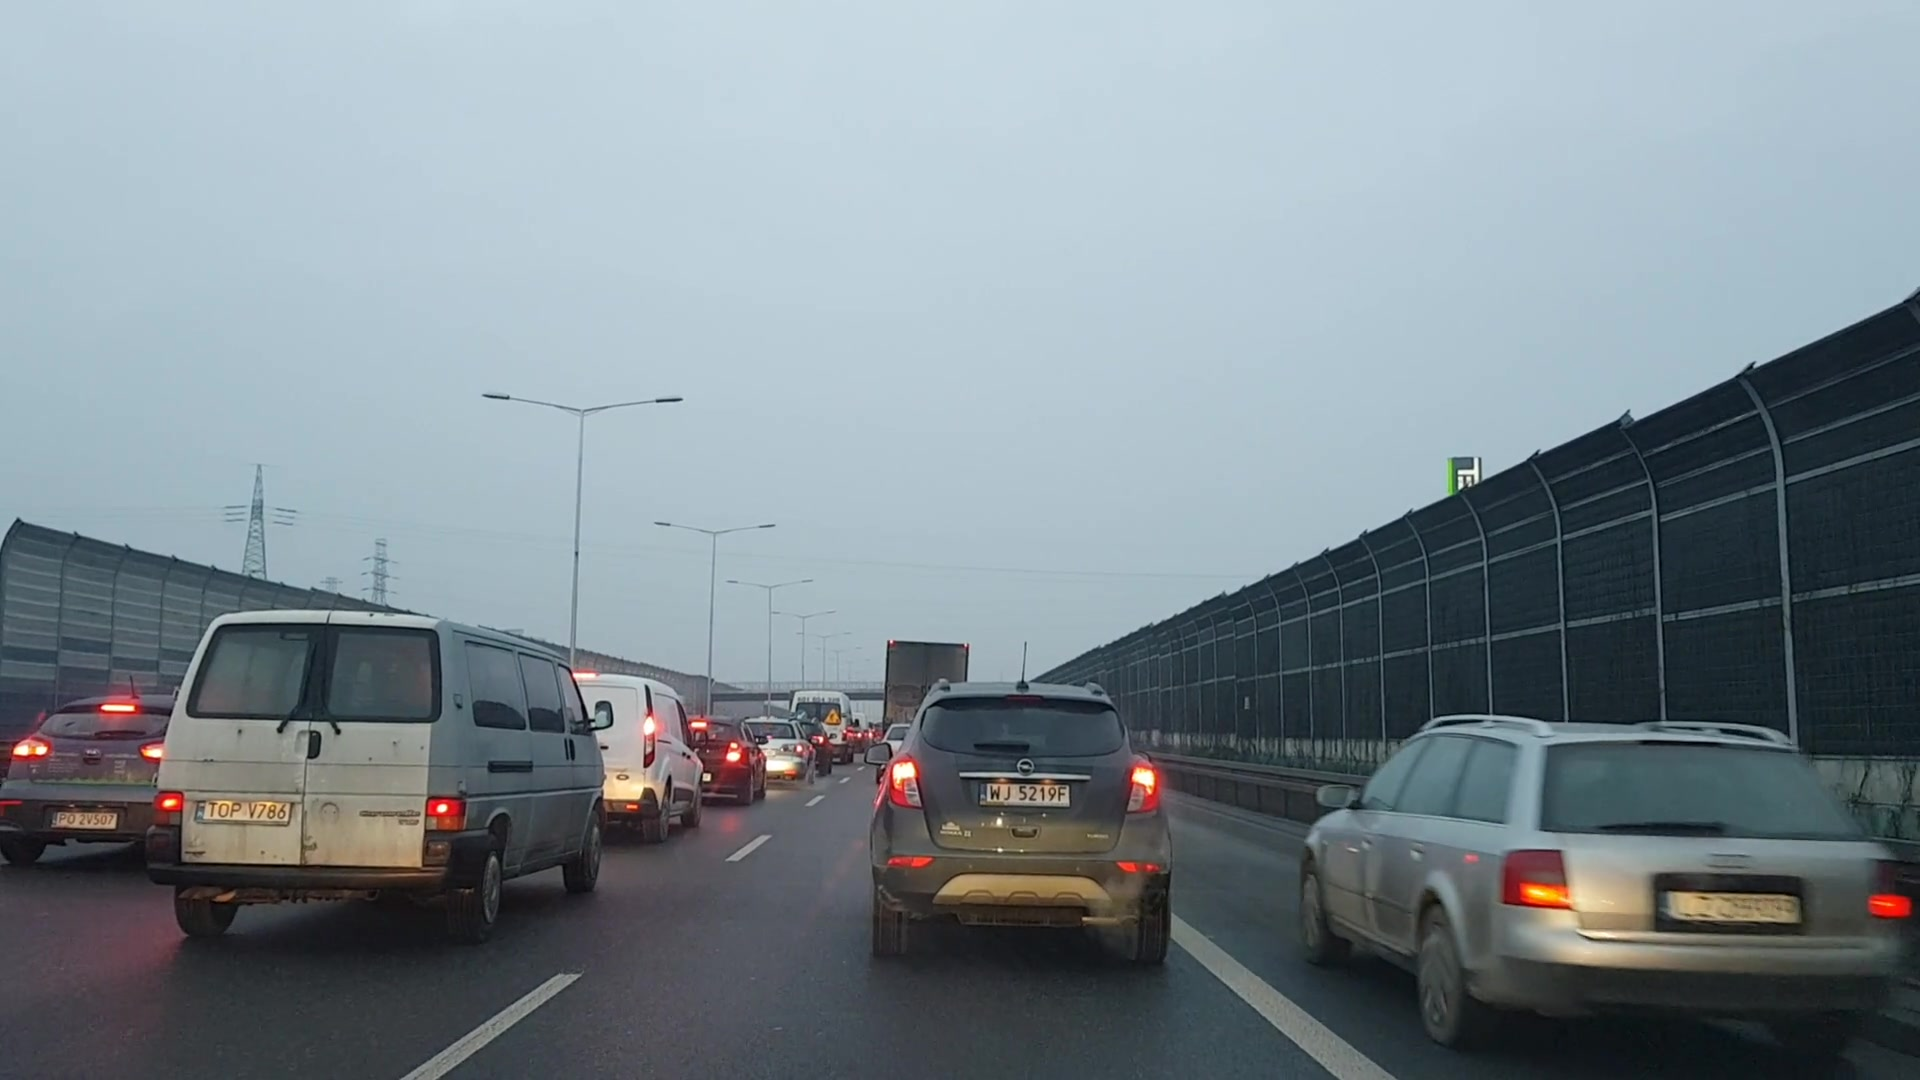car: (1294, 705, 1913, 1064), (141, 600, 607, 928), (861, 674, 1179, 969), (7, 690, 150, 860), (605, 665, 702, 841), (694, 717, 766, 808), (767, 715, 808, 785)
